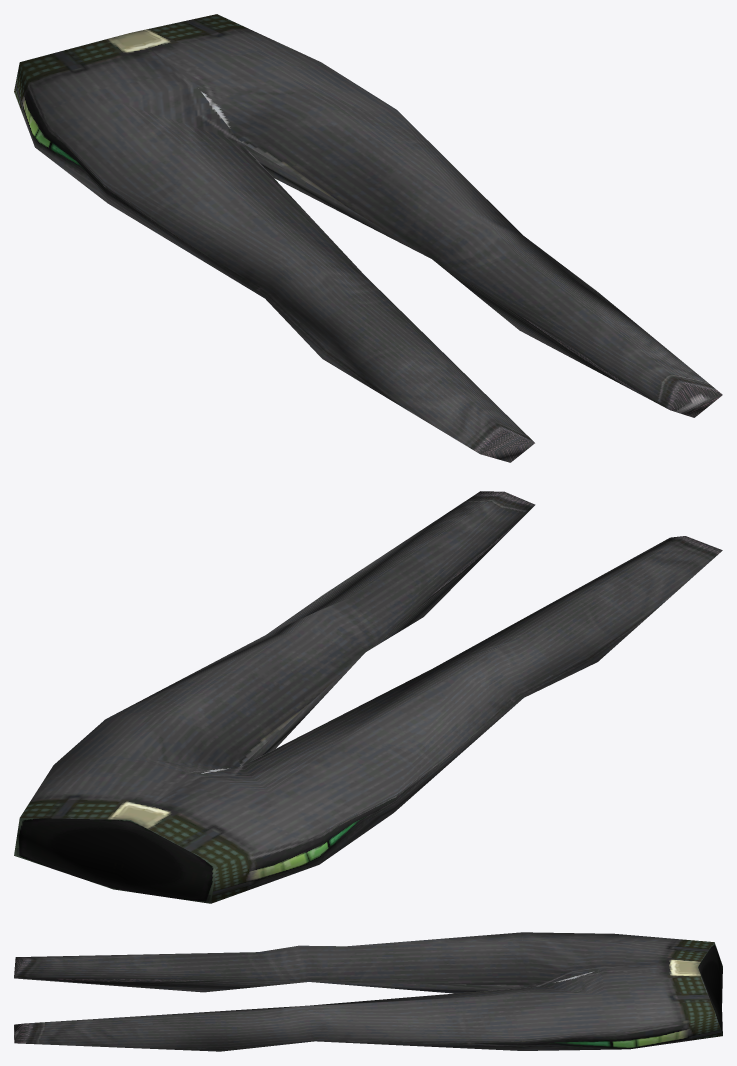
Rendered from f_Legs3.glb.
3 views of the same model, one above another, from view 1: azimuth 30°, elevation 25°; view 2: azimuth 150°, elevation 25°; view 3: azimuth 270°, elevation 25° (orthographic). The views are drawn at different scales.
Parts seen in each view (by area): view 1: Legs3; view 2: Legs3; view 3: Legs3.
Part boxes in pixels (x1,y1,x2,y2): Legs3: [14, 14, 722, 462]; Legs3: [14, 491, 722, 903]; Legs3: [14, 932, 722, 1051].
Size of the model in its own units: 18.89 by 4.14 by 54.85.
Materials: 1 (1 with a texture image).
